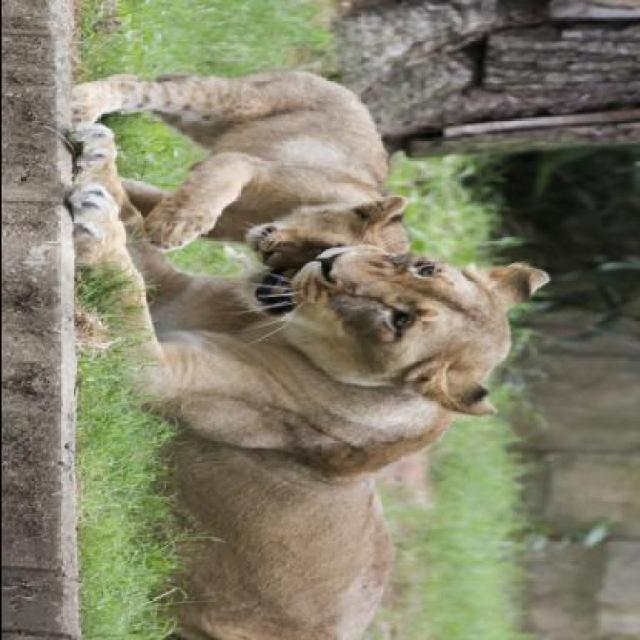Lion: (70, 243, 552, 639), (1, 34, 454, 261)
